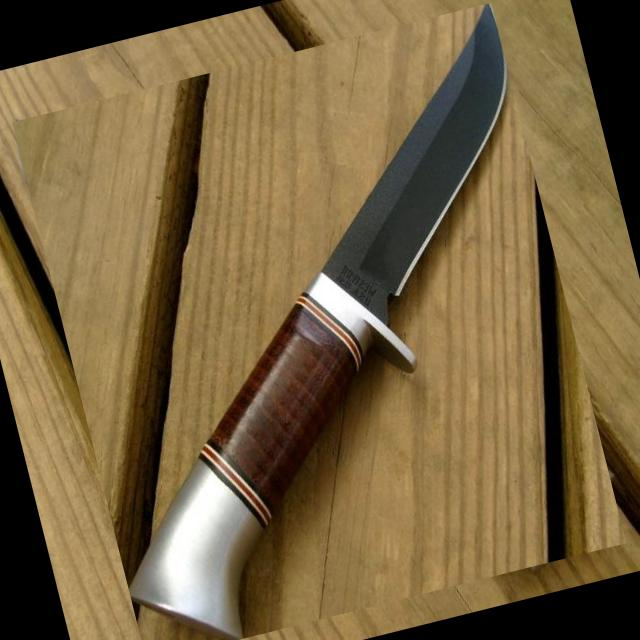Knife: (130, 3, 506, 640)
